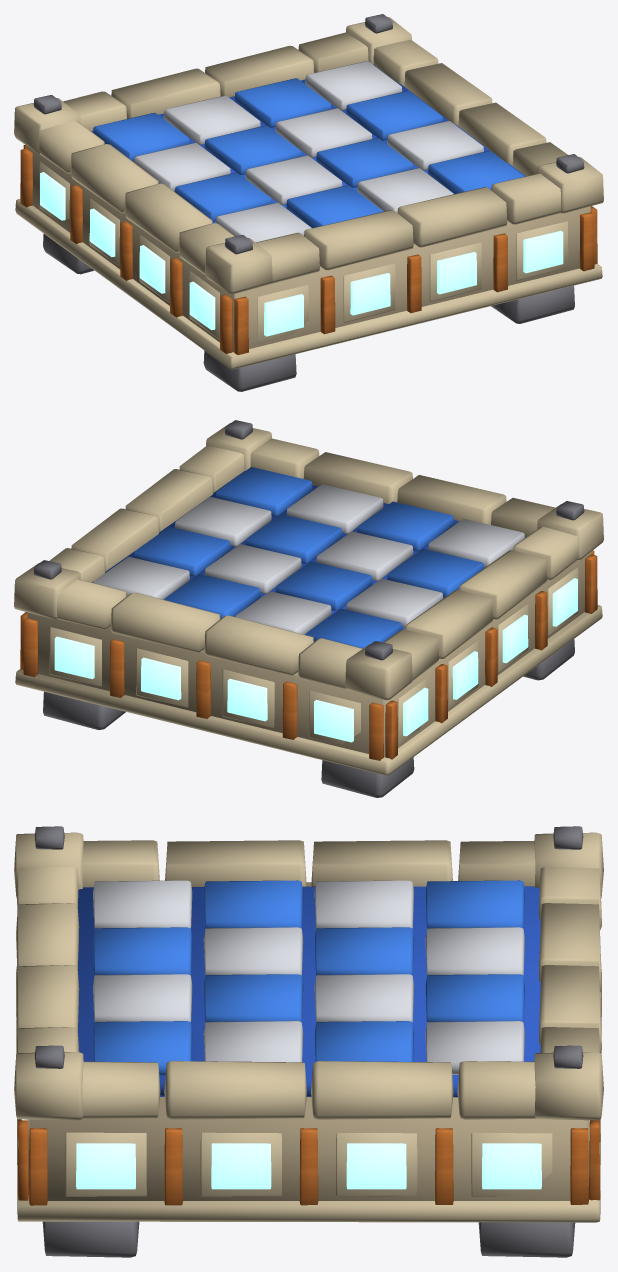
The model's file is OBJ10_sql_table.glb.
3 renders of one model, top to bottom at view 1: azimuth 30°, elevation 25°; view 2: azimuth 150°, elevation 25°; view 3: azimuth 270°, elevation 25°, orthographic. The views are drawn at different scales.
Visible parts, largest first — view 1: RimBlocks, TilesBlue, TilesWhite, Body, BaseCourse, CornerBlock_-1_1, CornerBlock_1_1, Foot_-1_1, Foot_1_1, CornerBlock_-1_-1, Glow_1, Glow_3 (+27 smaller); view 2: RimBlocks, TilesWhite, TilesBlue, Body, BaseCourse, CornerBlock_-1_-1, CornerBlock_1_-1, Foot_-1_-1, Foot_1_-1, CornerBlock_-1_1, Glow_23, Glow_03 (+27 smaller); view 3: RimBlocks, TilesWhite, TilesBlue, Body, GridBed, BaseCourse, CornerBlock_1_-1, CornerBlock_1_1, Foot_1_1, Foot_1_-1, Glow_12, Glow_22 (+19 smaller).
Part boxes in pixels (bbox=[...]): RimBlocks: bbox=[39, 32, 568, 283]; TilesBlue: bbox=[93, 78, 524, 227]; TilesWhite: bbox=[134, 61, 483, 242]; Body: bbox=[27, 146, 590, 352]; BaseCourse: bbox=[15, 199, 602, 369]; CornerBlock_-1_1: bbox=[205, 238, 272, 294]; CornerBlock_1_1: bbox=[537, 157, 603, 213]; Foot_-1_1: bbox=[203, 350, 296, 391]; Foot_1_1: bbox=[491, 285, 574, 323]; CornerBlock_-1_-1: bbox=[14, 98, 80, 153]; Glow_1: bbox=[350, 273, 390, 315]; Glow_3: bbox=[523, 230, 563, 273]; RimBlocks: bbox=[49, 438, 578, 689]; TilesWhite: bbox=[93, 484, 524, 634]; TilesBlue: bbox=[134, 467, 483, 648]; Body: bbox=[27, 552, 590, 757]; BaseCourse: bbox=[15, 605, 602, 775]; CornerBlock_-1_-1: bbox=[345, 644, 412, 700]; CornerBlock_1_-1: bbox=[14, 563, 80, 619]; Foot_-1_-1: bbox=[321, 757, 414, 797]; Foot_1_-1: bbox=[43, 691, 125, 729]; CornerBlock_-1_1: bbox=[537, 504, 603, 559]; Glow_23: bbox=[227, 678, 267, 721]; Glow_03: bbox=[54, 636, 94, 679]; RimBlocks: bbox=[16, 840, 601, 1119]; TilesWhite: bbox=[93, 880, 524, 1074]; TilesBlue: bbox=[93, 880, 524, 1075]; Body: bbox=[29, 882, 588, 1200]; GridBed: bbox=[77, 886, 540, 1097]; BaseCourse: bbox=[16, 966, 601, 1222]; CornerBlock_1_-1: bbox=[534, 1052, 603, 1120]; CornerBlock_1_1: bbox=[14, 1052, 83, 1120]; Foot_1_1: bbox=[42, 1221, 139, 1257]; Foot_1_-1: bbox=[478, 1222, 575, 1257]; Glow_12: bbox=[211, 1143, 271, 1189]; Glow_22: bbox=[346, 1143, 406, 1189].
Size of the model in its own units: 1.57 by 0.61 by 1.57.
Materials: 8 (1 with a texture image).
